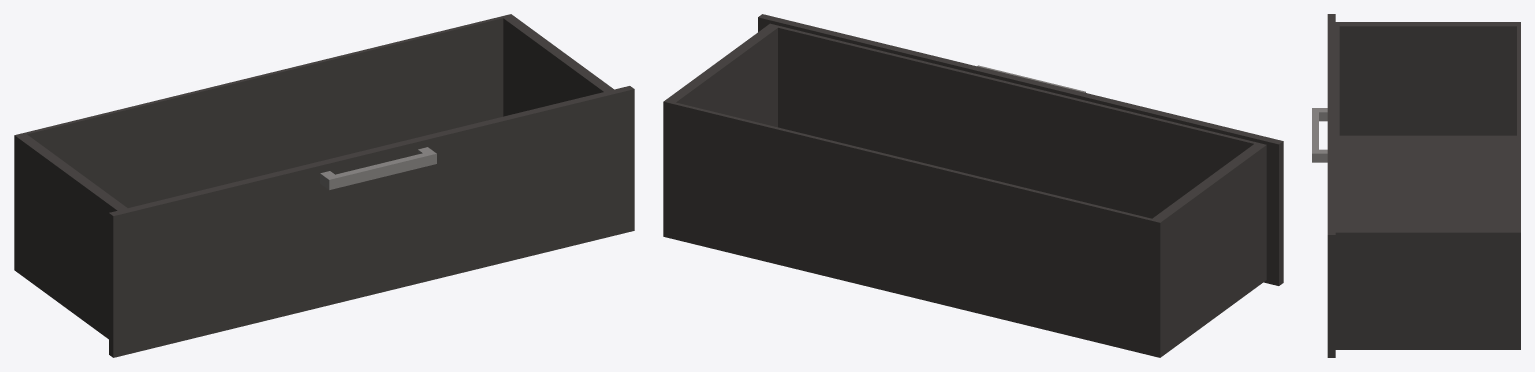
Rendered from Cupboard_11_02.fbx.
3 renders of one model, left to right at view 1: azimuth 30°, elevation 25°; view 2: azimuth 150°, elevation 25°; view 3: azimuth 270°, elevation 25°, orthographic. The views are drawn at different scales.
Parts seen in each view (by area): view 1: Cupboard_11_02; view 2: Cupboard_11_02; view 3: Cupboard_11_02.
Part boxes in pixels (x1,y1,x2,y2): Cupboard_11_02: (14, 14, 634, 357); Cupboard_11_02: (663, 14, 1283, 357); Cupboard_11_02: (1312, 14, 1520, 357).
Bounding box in the file's own units: 128 × 33.31 × 51.18.
